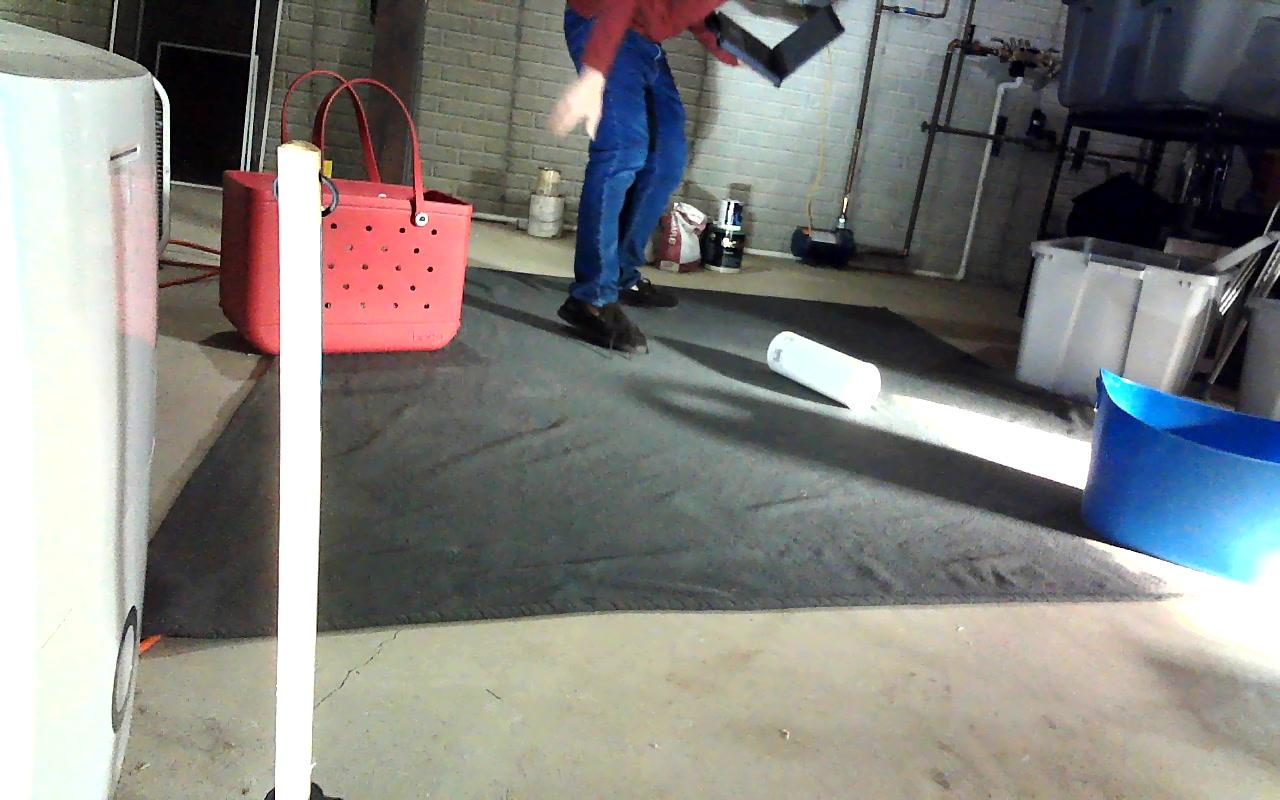coral: (768, 331, 880, 409)
